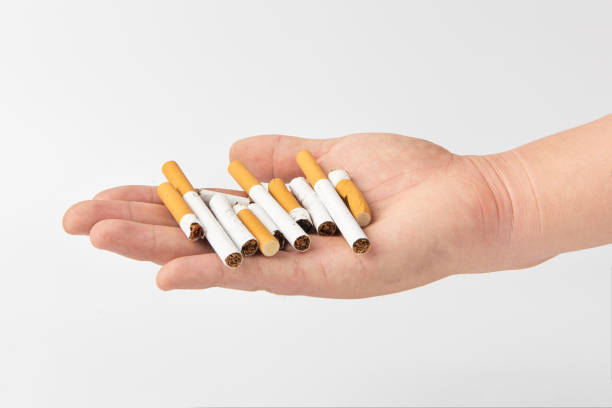cigarette: (161, 158, 242, 270), (295, 150, 372, 256), (226, 159, 312, 252), (289, 173, 337, 237), (209, 194, 258, 255), (157, 181, 205, 243), (232, 201, 281, 258), (326, 168, 371, 228), (266, 175, 312, 232), (247, 200, 287, 250), (198, 186, 251, 207)
